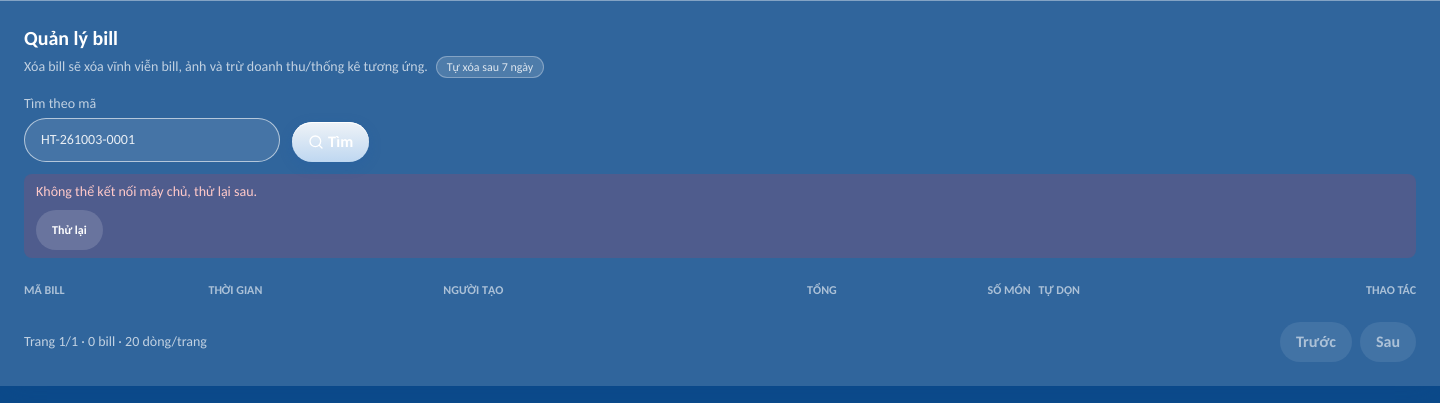
Test: P7-T1 — trạng thái rỗng và lỗi › tải lỗi → hiện thông báo tiếng Việt, bấm "Thử lại" gọi lại api
Expected: the message "Không thể kết nối máy chủ, thử lại sau. Thử lại" is shown, x1=24 y1=174 x2=1416 y2=258
Click the button "Thử lại" at (69, 230), box x1=36 y1=210 x2=103 y2=250
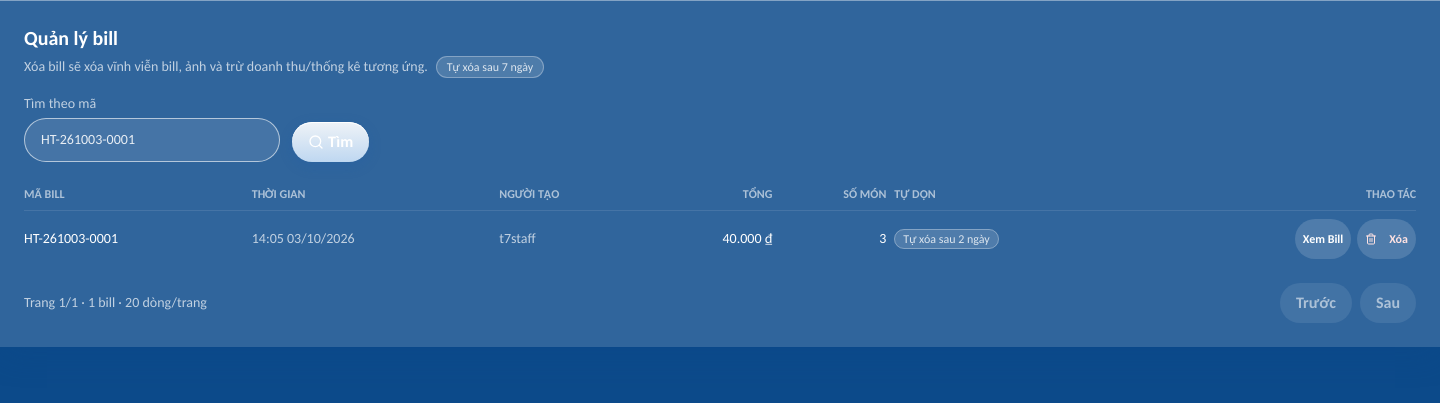
Result: the text "HT-261003-0001" is shown at x1=24 y1=210 x2=252 y2=267
